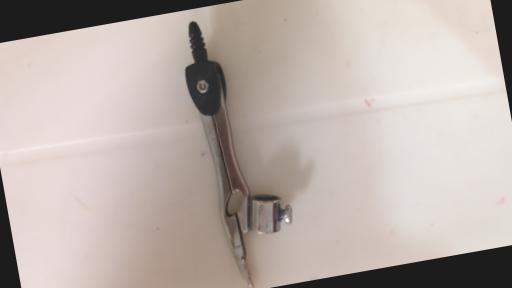Compass: (177, 7, 306, 288)
